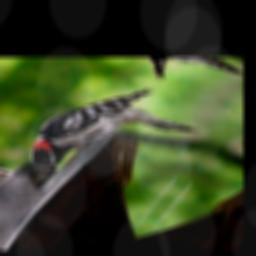Woodpecker: (9, 68, 222, 202)
